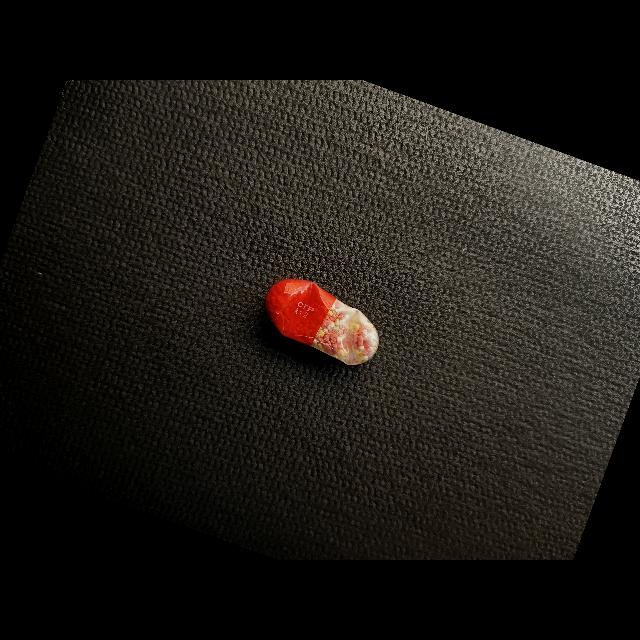Defective Capsule: (265, 279, 379, 365)
